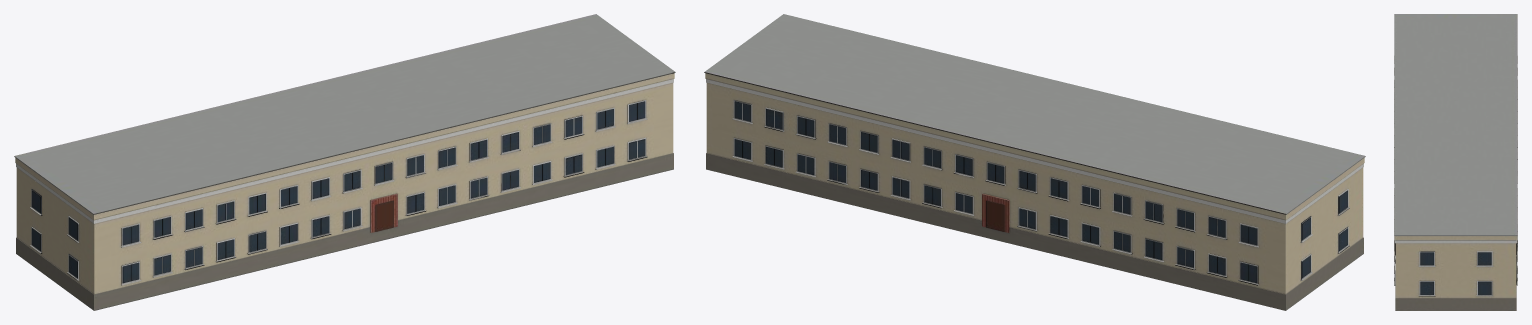
File: szkola_skrzydlo.glb
3 views of the same model, side by side, from view 1: azimuth 30°, elevation 25°; view 2: azimuth 150°, elevation 25°; view 3: azimuth 270°, elevation 25° (orthographic). The views are drawn at different scales.
Visible parts, largest first — view 1: szkola_skrzydlo; view 2: szkola_skrzydlo; view 3: szkola_skrzydlo.
Part boxes in pixels (bbox=[...]): szkola_skrzydlo: bbox=[14, 14, 675, 310]; szkola_skrzydlo: bbox=[704, 14, 1365, 310]; szkola_skrzydlo: bbox=[1394, 14, 1517, 310].
Bounding box in the file's own units: 56.32 × 9.03 × 13.32.
1 material, 1 textured.
